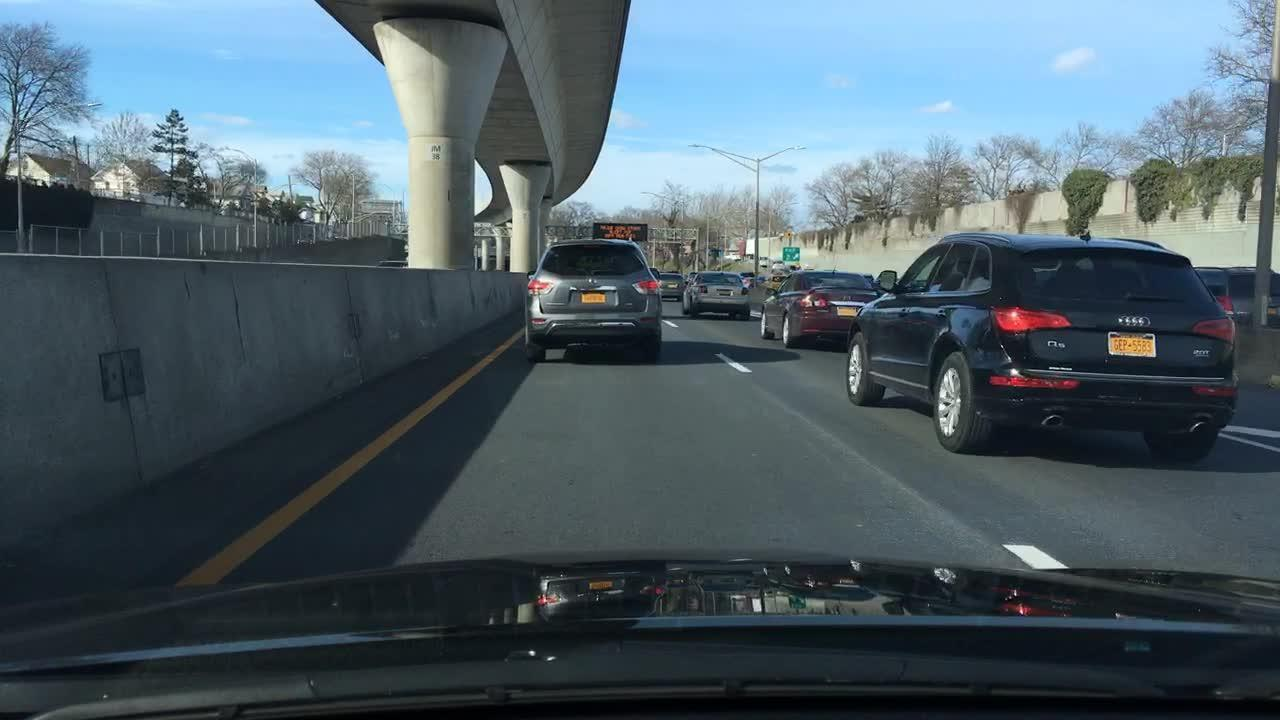Audi: (1115, 310, 1155, 334)
